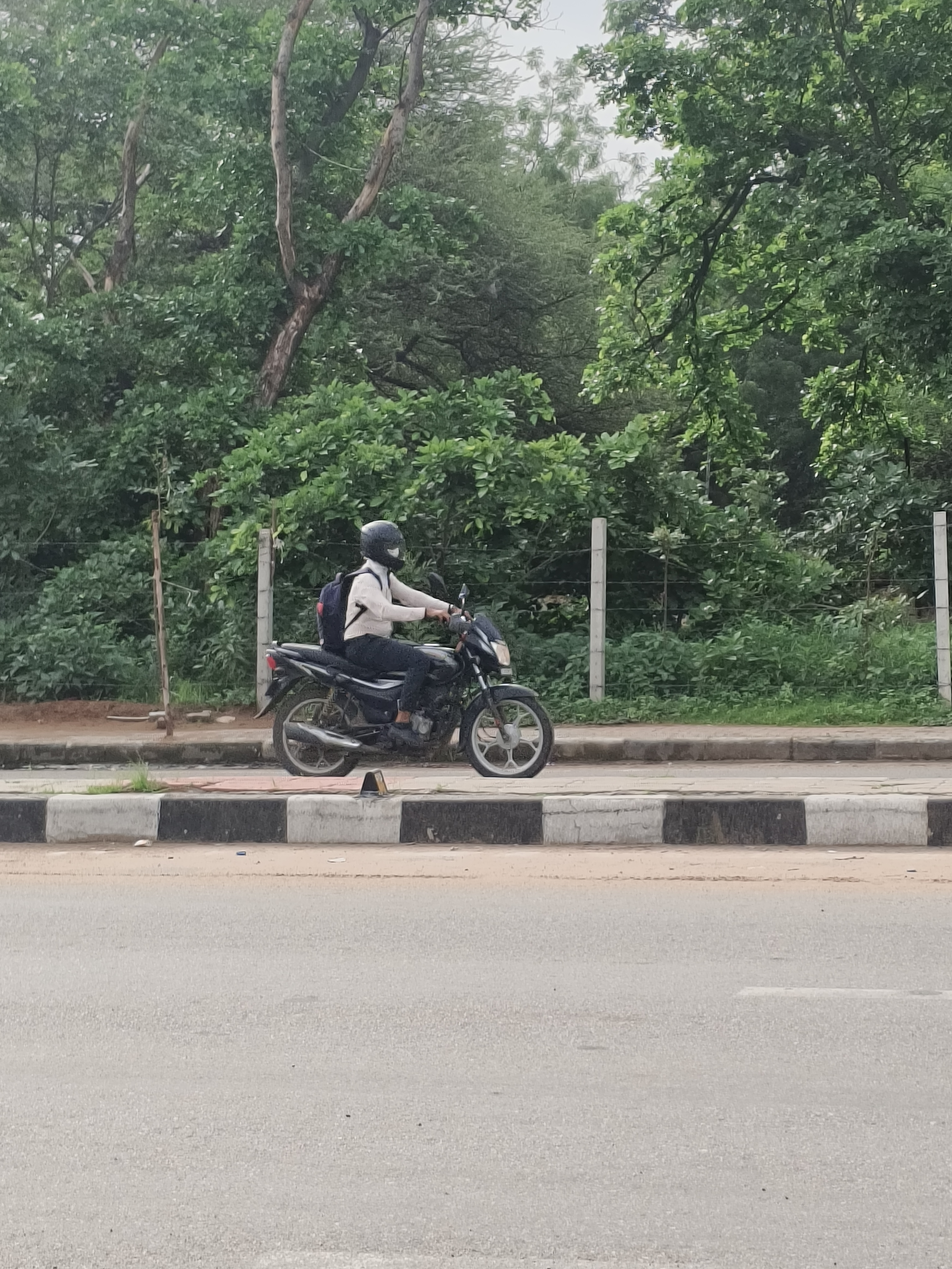BikeWithRider: (254, 511, 562, 779)
Helmet: (355, 515, 412, 574)
